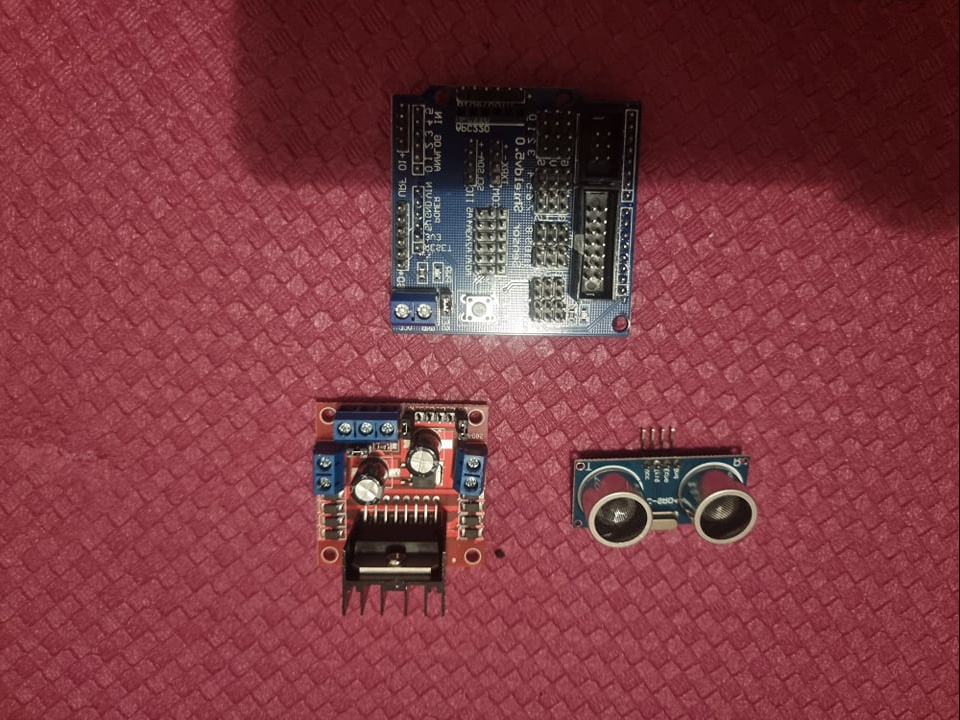5V EXPANSION: (386, 86, 641, 343)
MOTOR: (307, 397, 496, 616)
SENSOR: (576, 455, 756, 543)
